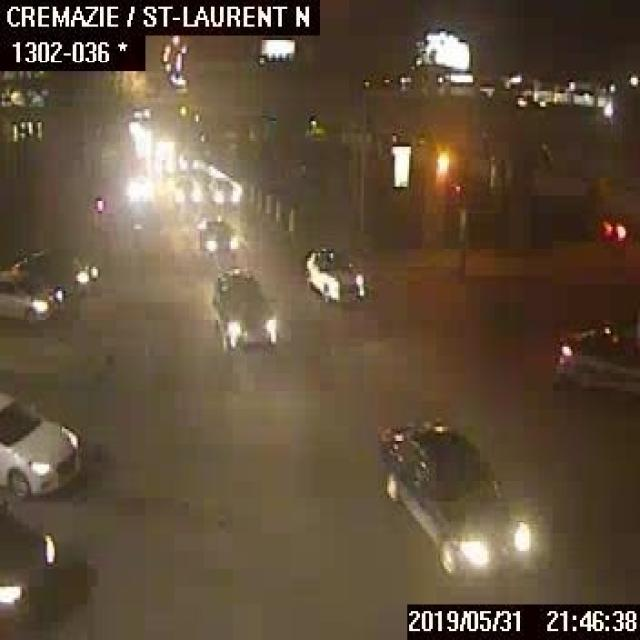construction: (285, 206, 293, 226), (274, 198, 280, 218), (256, 188, 262, 208), (265, 193, 270, 213), (248, 180, 253, 200)
vehicle: (373, 416, 536, 580), (0, 386, 80, 496), (547, 316, 638, 396), (0, 498, 60, 616), (211, 265, 280, 351), (9, 246, 98, 295), (302, 244, 365, 300), (0, 271, 65, 320), (593, 206, 638, 246), (194, 214, 241, 252), (207, 172, 239, 208), (170, 173, 198, 204)
